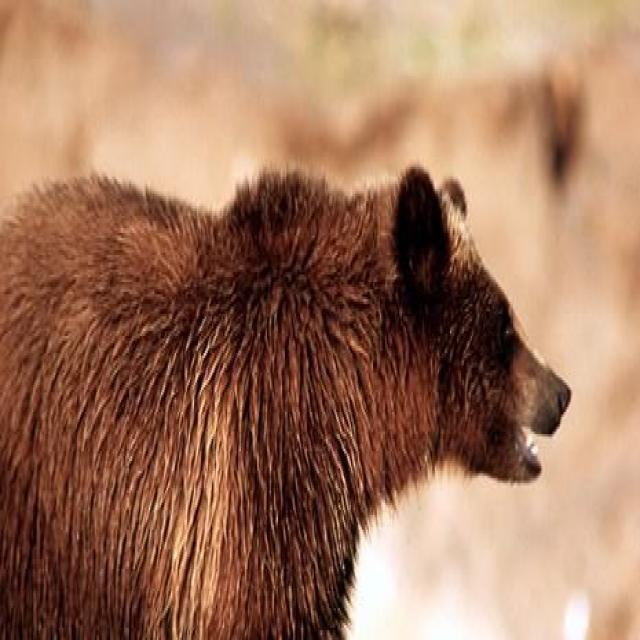Bear: (0, 164, 573, 640)
